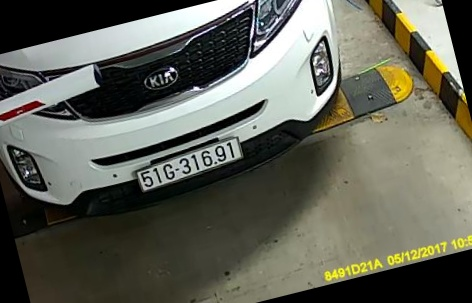plate: (133, 136, 245, 196)
